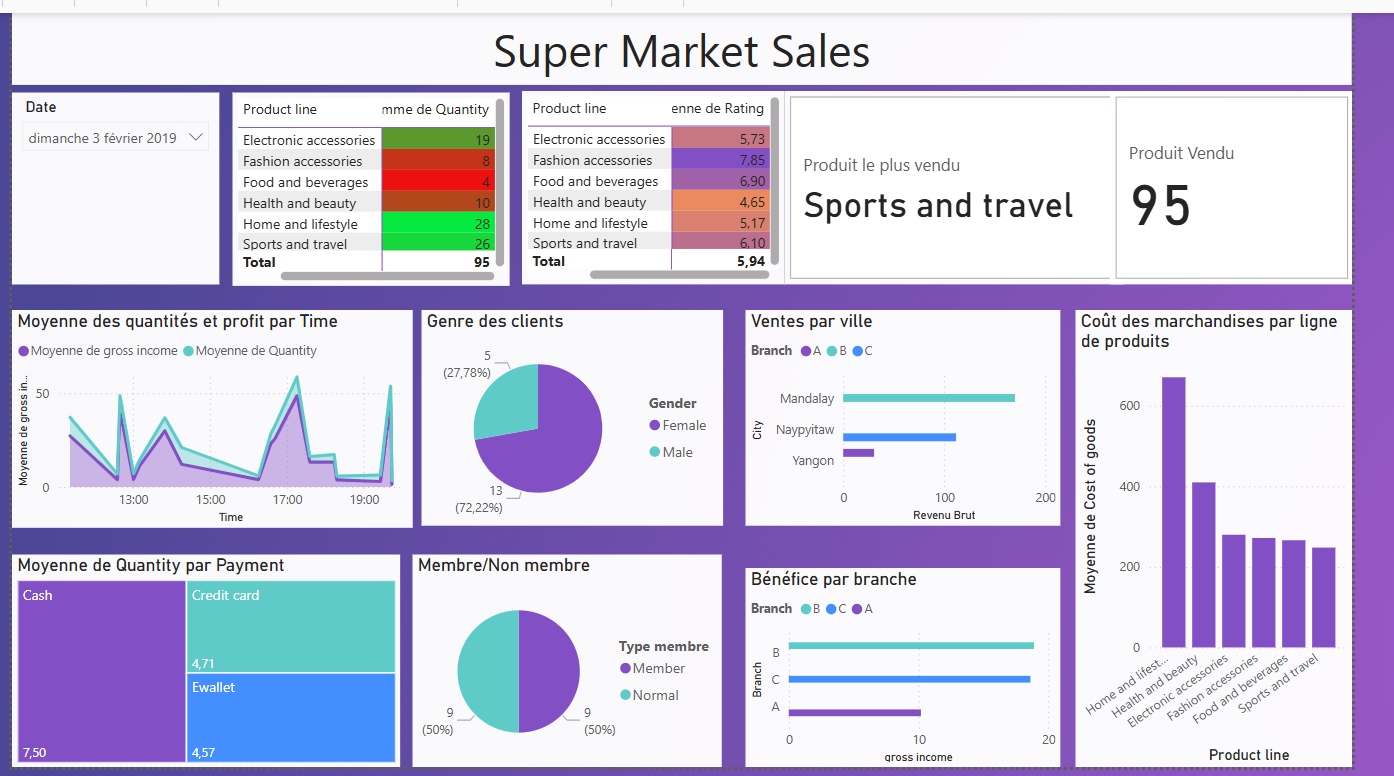

The page's visual inventory and layout, read from the dashboard file:
{"tool":"powerbi","page":{"name":"Page 1","canvas":[1280,720],"ordinal":0},"visuals":[{"type":"slicer","fields":{"Values":["supermarket_sales+-+Sheet1 (1).Date"]},"box":[0,75.9,197.7,183.3],"z":0},{"type":"textbox","box":[0,0,1279.1,68.8],"z":1000},{"type":"pivotTable","fields":{"Rows":["supermarket_sales+-+Sheet1 (1).Product line"],"Values":["Sum(supermarket_sales+-+Sheet1 (1).Quantity)"]},"box":[210.6,75.9,265,184.8],"z":2000},{"type":"stackedAreaChart","title":"Moyenne des quantités et profit par Time","fields":{"Category":["supermarket_sales+-+Sheet1 (1).Time"],"Y":["Avg(supermarket_sales+-+Sheet1 (1).gross income)","Avg(supermarket_sales+-+Sheet1 (1).Quantity)"]},"box":[0,283.6,382.4,207.7],"z":3000},{"type":"treemap","fields":{"Group":["supermarket_sales+-+Sheet1 (1).Payment"],"Values":["Avg(supermarket_sales+-+Sheet1 (1).Quantity)"]},"box":[0,517.1,371,203.4],"z":4000},{"type":"pivotTable","fields":{"Rows":["supermarket_sales+-+Sheet1 (1).Product line"],"Values":["Avg(supermarket_sales+-+Sheet1 (1).Rating)"]},"box":[487,74.5,250.7,184.8],"z":5000},{"type":"pieChart","title":" Genre des clients","fields":{"Category":["supermarket_sales+-+Sheet1 (1).Gender"],"Y":["CountNonNull(supermarket_sales+-+Sheet1 (1).Gender)"]},"box":[391,283.6,287.9,206.3],"z":6000},{"type":"pieChart","title":"Membre/Non membre","fields":{"Category":["supermarket_sales+-+Sheet1 (1).Customer type"],"Y":["CountNonNull(supermarket_sales+-+Sheet1 (1).Customer type)"]},"box":[382.4,517.1,295.1,203.4],"z":7000},{"type":"cardVisual","fields":{"Data":["supermarket_sales+-+Sheet1 (1).Highest sold product"]},"box":[737.7,74.5,323.7,184.8],"z":8000},{"type":"cardVisual","fields":{"Data":["Sum(supermarket_sales+-+Sheet1 (1).Quantity)"]},"box":[1048.5,74.5,232,184.8],"z":9000},{"type":"clusteredBarChart","title":"Ventes par ville","fields":{"Category":["supermarket_sales+-+Sheet1 (1).City"],"Y":["Sum(supermarket_sales+-+Sheet1 (1).gross income)"],"Series":["supermarket_sales+-+Sheet1 (1).Branch"]},"box":[700.4,283.6,300.8,206.3],"z":10000},{"type":"clusteredBarChart","title":"Bénéfice par branche","fields":{"Y":["Avg(supermarket_sales+-+Sheet1 (1).gross income)"],"Category":["supermarket_sales+-+Sheet1 (1).Branch"],"Series":["supermarket_sales+-+Sheet1 (1).Branch"]},"box":[700.4,530,300.8,190.5],"z":11000},{"type":"clusteredColumnChart","title":" Coût des marchandises par ligne de produits","fields":{"Category":["supermarket_sales+-+Sheet1 (1).Product line"],"Y":["Avg(supermarket_sales+-+Sheet1 (1).Cost of goods)"]},"box":[1015.6,283.6,265,436.9],"z":12000}]}

Visuals, with their boxes in screenshot pixels (x1, y1, x2, y2), scaled from the page's 1280x720 canvas onto the 1394x776 screenshot:
slicer - supermarket_sales+-+Sheet1 (1).Date: x1=0, y1=82, x2=215, y2=279
textbox: x1=0, y1=0, x2=1393, y2=74
pivotTable - supermarket_sales+-+Sheet1 (1).Product line x Sum(supermarket_sales+-+Sheet1 (1).Quantity): x1=229, y1=82, x2=518, y2=281
"Moyenne des quantités et profit par Time" stackedAreaChart: x1=0, y1=306, x2=416, y2=530
treemap - supermarket_sales+-+Sheet1 (1).Payment x Avg(supermarket_sales+-+Sheet1 (1).Quantity): x1=0, y1=557, x2=404, y2=775
pivotTable - supermarket_sales+-+Sheet1 (1).Product line x Avg(supermarket_sales+-+Sheet1 (1).Rating): x1=530, y1=80, x2=803, y2=279
" Genre des clients" pieChart: x1=426, y1=306, x2=739, y2=528
"Membre/Non membre" pieChart: x1=416, y1=557, x2=738, y2=775
cardVisual - supermarket_sales+-+Sheet1 (1).Highest sold product: x1=803, y1=80, x2=1156, y2=279
cardVisual - Sum(supermarket_sales+-+Sheet1 (1).Quantity): x1=1142, y1=80, x2=1393, y2=279
"Ventes par ville" clusteredBarChart: x1=763, y1=306, x2=1090, y2=528
"Bénéfice par branche" clusteredBarChart: x1=763, y1=571, x2=1090, y2=775
" Coût des marchandises par ligne de produits" clusteredColumnChart: x1=1106, y1=306, x2=1393, y2=775
